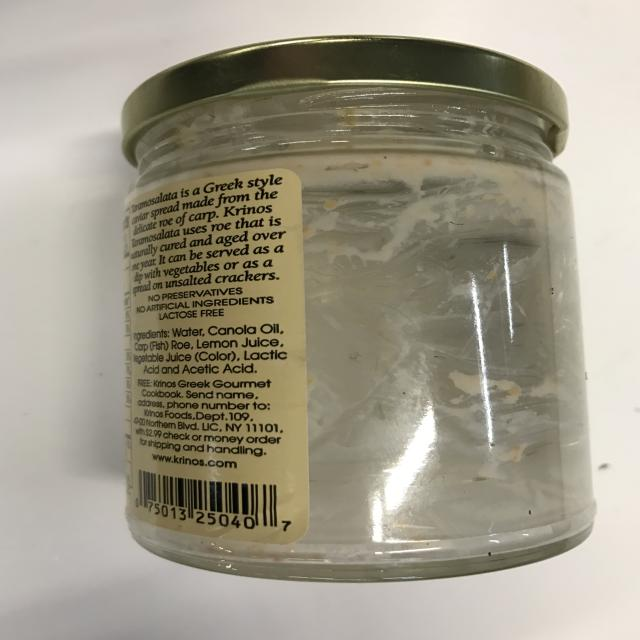glass: (120, 34, 597, 583)
